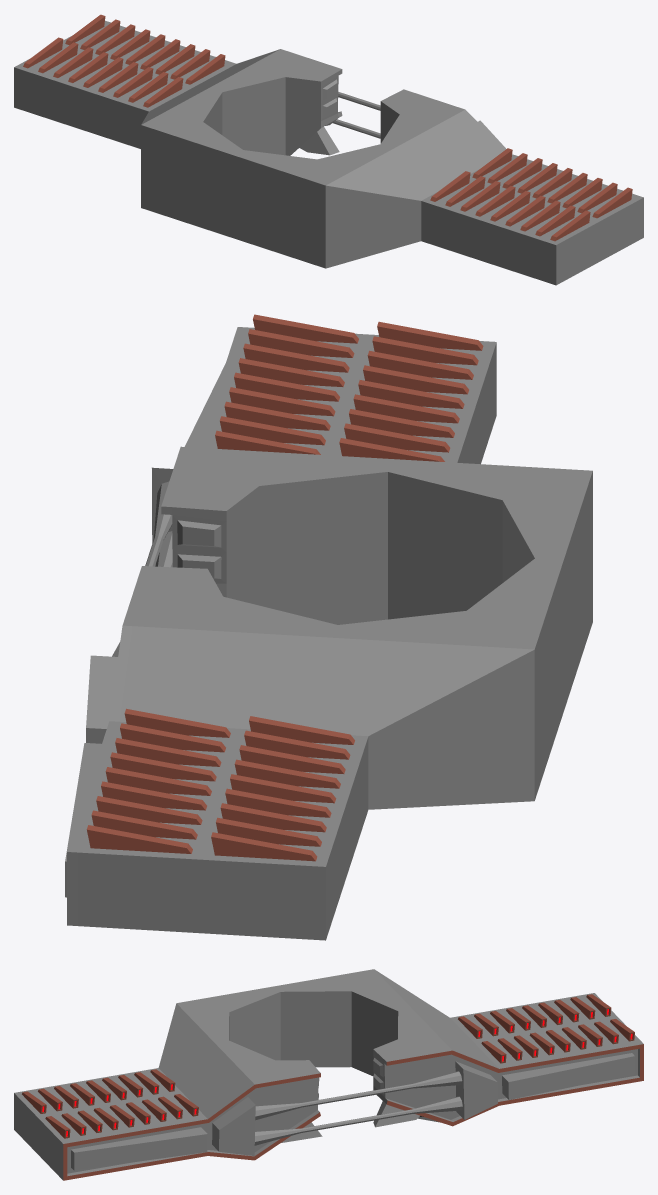
The model's file is engine_top.glb.
3 views of the same model, one above another, from view 1: azimuth 30°, elevation 25°; view 2: azimuth 150°, elevation 25°; view 3: azimuth 270°, elevation 25° (orthographic). The views are drawn at different scales.
Parts seen in each view (by area): view 1: Cube057, Cube057_2; view 2: Cube057, Cube057_2; view 3: Cube057, Cube057_2, Cube057_1.
Part boxes in pixels (<box>): Cube057: <box>14,20,643,285</box>; Cube057_2: <box>23,14,632,241</box>; Cube057: <box>65,327,592,940</box>; Cube057_2: <box>86,314,483,861</box>; Cube057: <box>14,969,643,1180</box>; Cube057_2: <box>22,994,643,1180</box>; Cube057_1: <box>42,1009,632,1136</box>.
Size of the model in its own units: 0.3271 by 0.0765 by 0.576.
